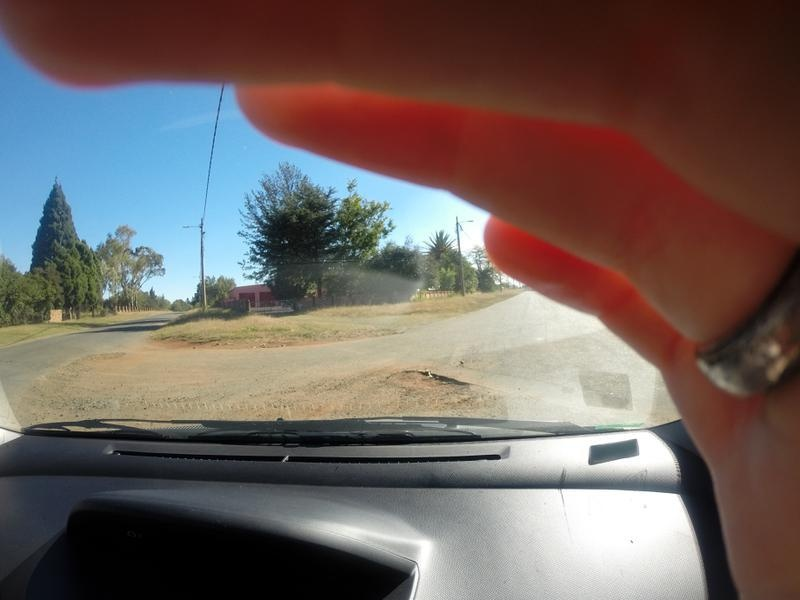pothole: (370, 361, 478, 404)
